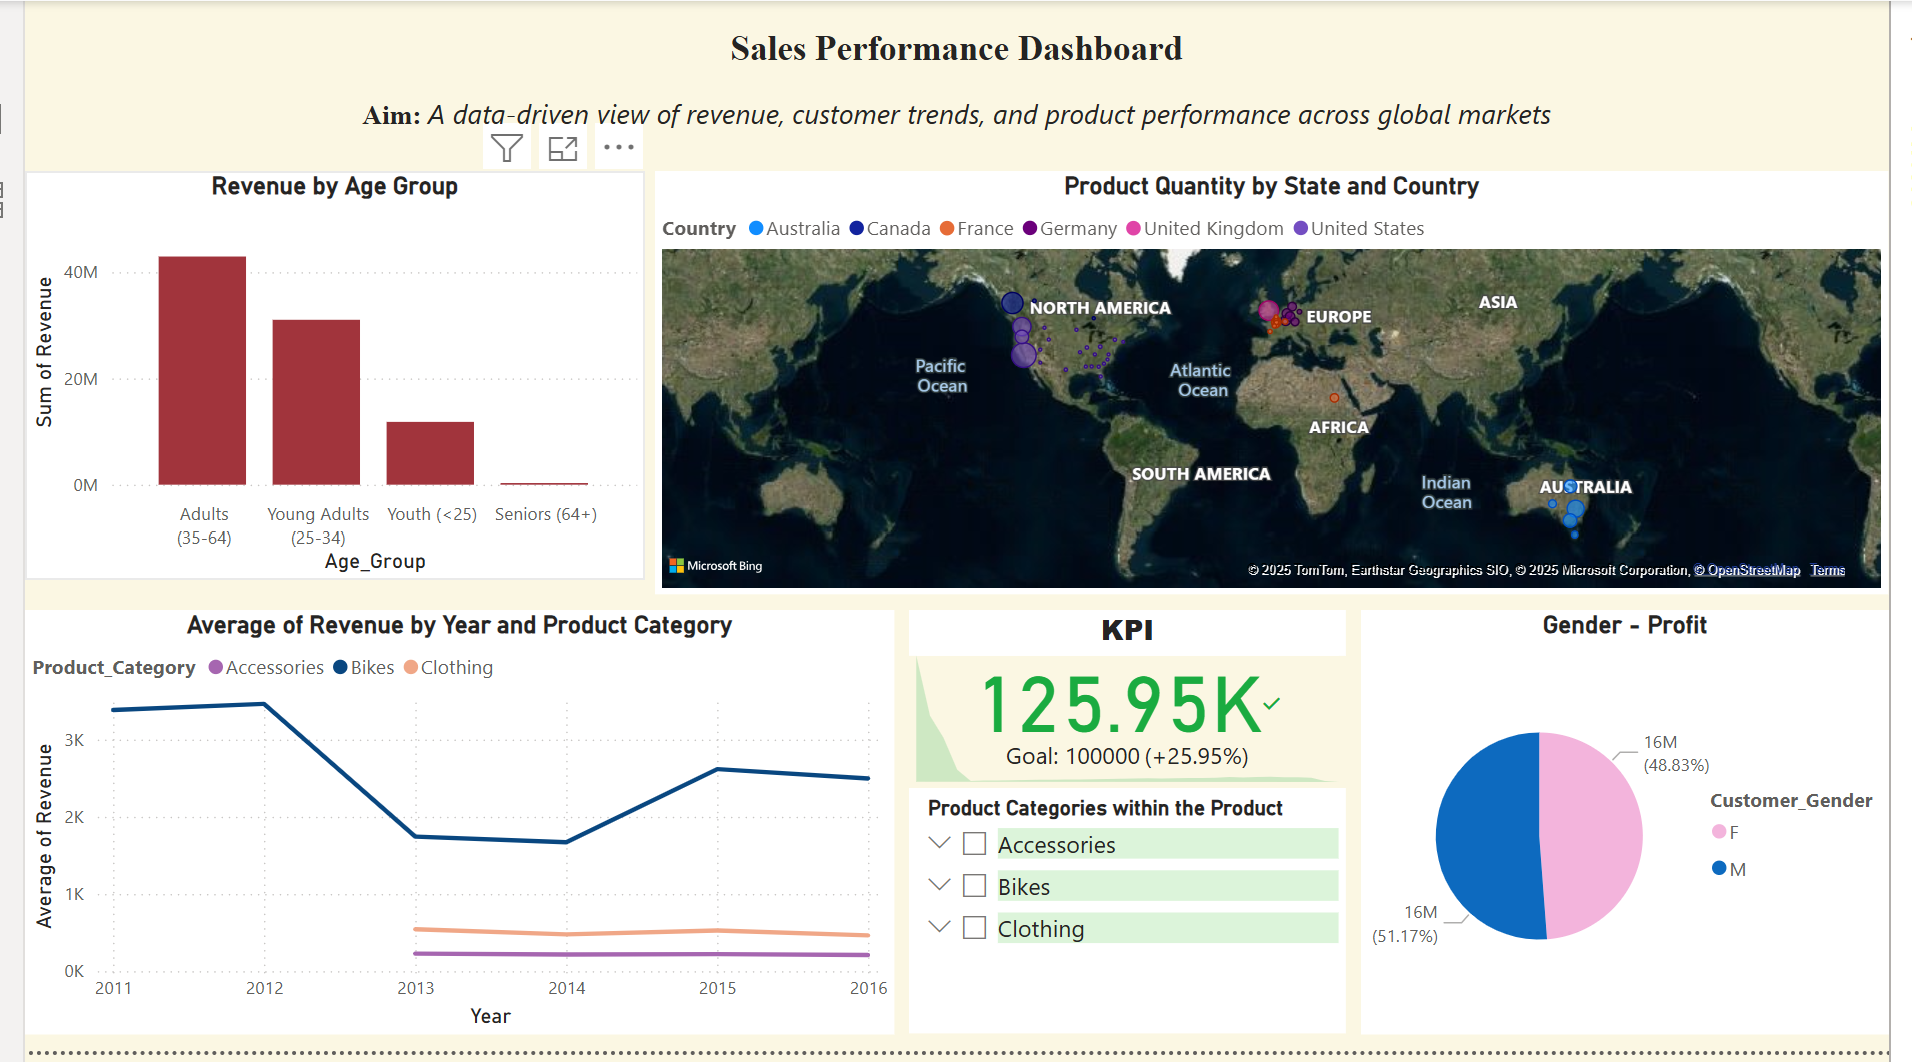

What the dashboard file says about the page in this screenshot:
{"tool":"powerbi","page":{"name":"Page 1","canvas":[1280,720],"ordinal":0},"visuals":[{"type":"columnChart","title":"Revenue by Age Group","fields":{"Category":["Sheet1.Age_Group"],"Y":["Sum(Sheet1.Revenue)"]},"box":[0,117.1,425.7,280],"z":0},{"type":"lineChart","title":"Average of Revenue by Year and Product Category","fields":{"Category":["Sheet1.Date.Variation.Date Hierarchy.Year"],"Series":["Sheet1.Product_Category"],"Y":["Avg(Sheet1.Revenue)"]},"box":[0,417.1,597.1,291.4],"z":1},{"type":"pieChart","title":"Gender - Profit","fields":{"Series":["Sheet1.Customer_Gender"],"Y":["Sum(Sheet1.Profit)"]},"box":[917.1,417.1,362.9,291.4],"z":2},{"type":"map","title":"Product Quantity by State and Country","fields":{"Category":["Sheet1.State"],"Size":["Sum(Sheet1.Order_Quantity)"],"Series":["Sheet1.Country"]},"box":[432.9,117.1,847.1,290],"z":3},{"type":"kpi","title":"KPI","fields":{"Goal":["Sheet1.Revenue Goal"],"TrendLine":["Sheet1.Order_Quantity"],"Indicator":["Sheet1.Total Revenue"]},"box":[607.1,417.1,300,122.9],"z":4},{"type":"slicer","fields":{"Values":["Sheet1.Product_Category","Sheet1.Product"]},"box":[607.1,540,300,168.6],"z":5},{"type":"textbox","box":[181.4,14.3,917.1,80],"z":6}]}

Visuals, with their boxes on the page's 1280x720 design canvas (x1, y1, x2, y2). These are canvas units, not pixel positions in the 1912x1062 screenshot, which may show the page scaled, cropped or inside an application window:
"Revenue by Age Group" columnChart: [x1=0, y1=117, x2=426, y2=397]
"Average of Revenue by Year and Product Category" lineChart: [x1=0, y1=417, x2=597, y2=708]
"Gender - Profit" pieChart: [x1=917, y1=417, x2=1280, y2=708]
"Product Quantity by State and Country" map: [x1=433, y1=117, x2=1280, y2=407]
"KPI" kpi: [x1=607, y1=417, x2=907, y2=540]
slicer - Sheet1.Product_Category x Sheet1.Product: [x1=607, y1=540, x2=907, y2=709]
textbox: [x1=181, y1=14, x2=1098, y2=94]
